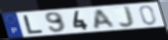0: (138, 5, 158, 26)
4: (73, 10, 90, 31)
9: (44, 11, 68, 34)
A: (93, 8, 117, 30)
J: (117, 5, 136, 29)
L: (22, 14, 45, 35)
